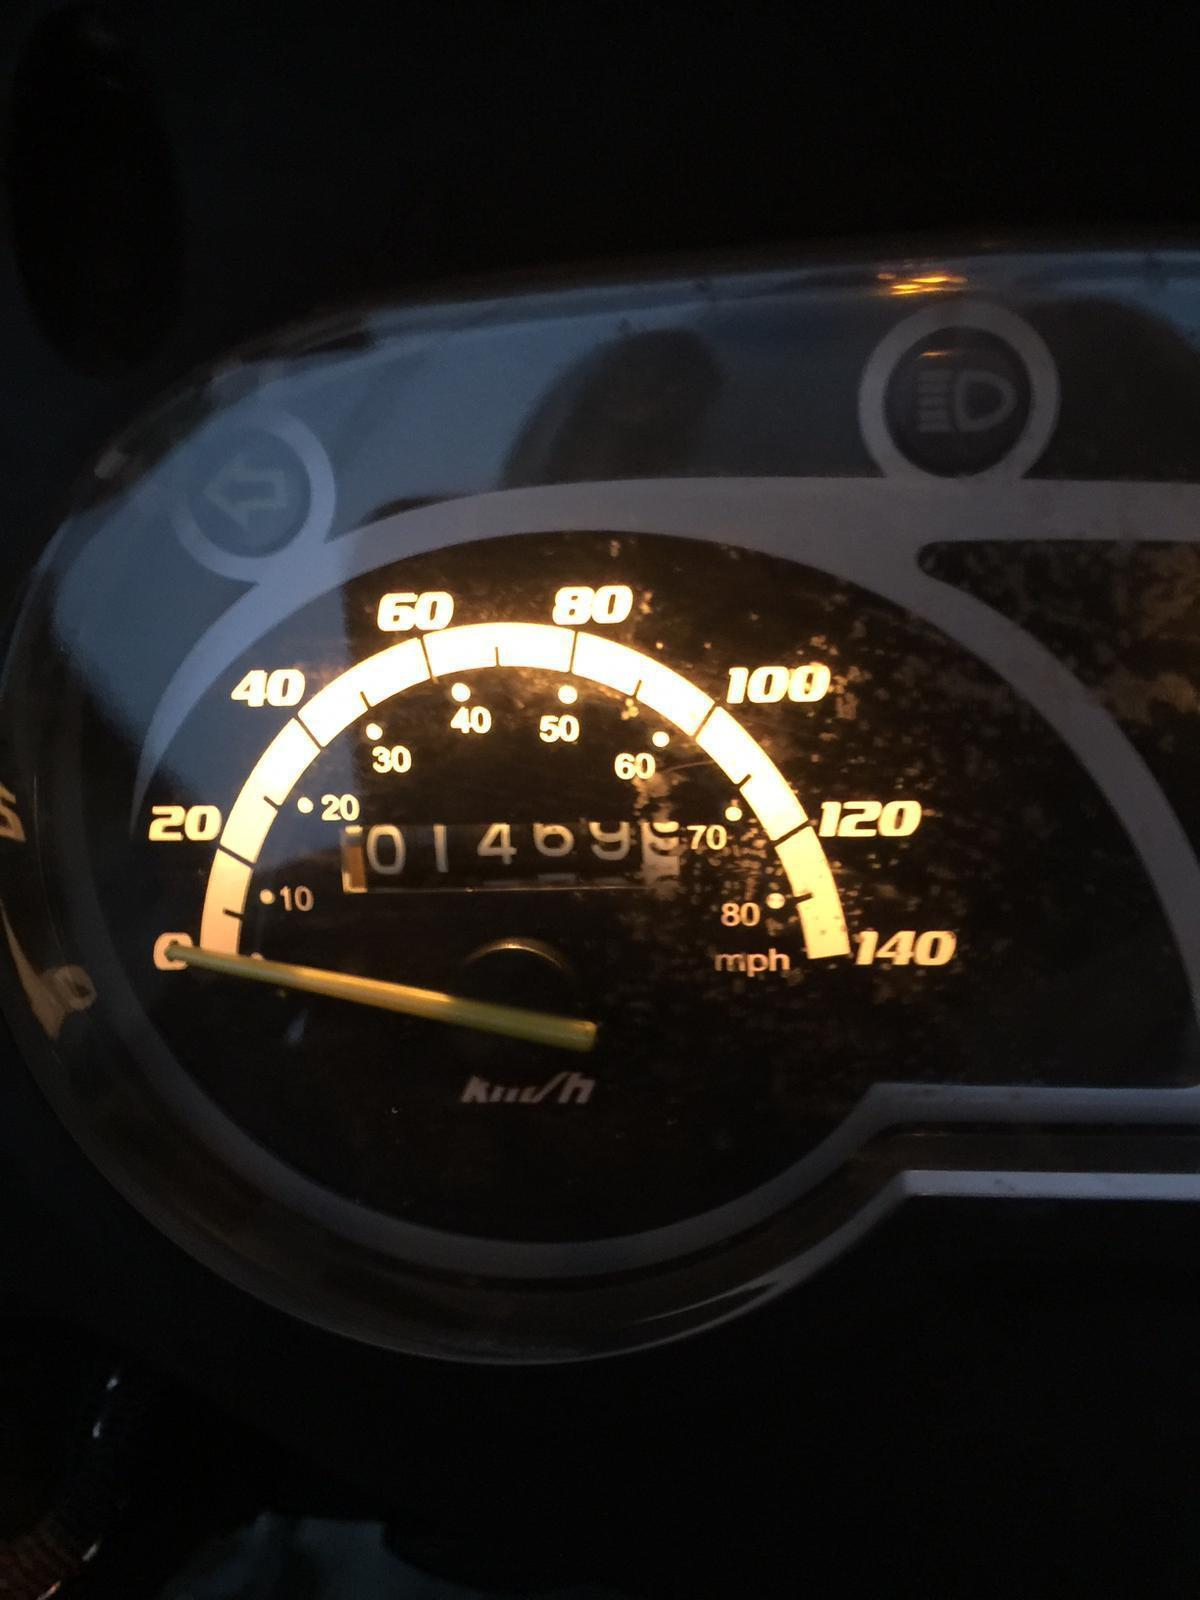0: (362, 820, 410, 878)
1: (426, 818, 453, 879)
4: (474, 818, 521, 871)
6: (532, 813, 580, 866)
9: (589, 816, 637, 864), (645, 816, 684, 866)
odometer: (338, 810, 689, 910)
